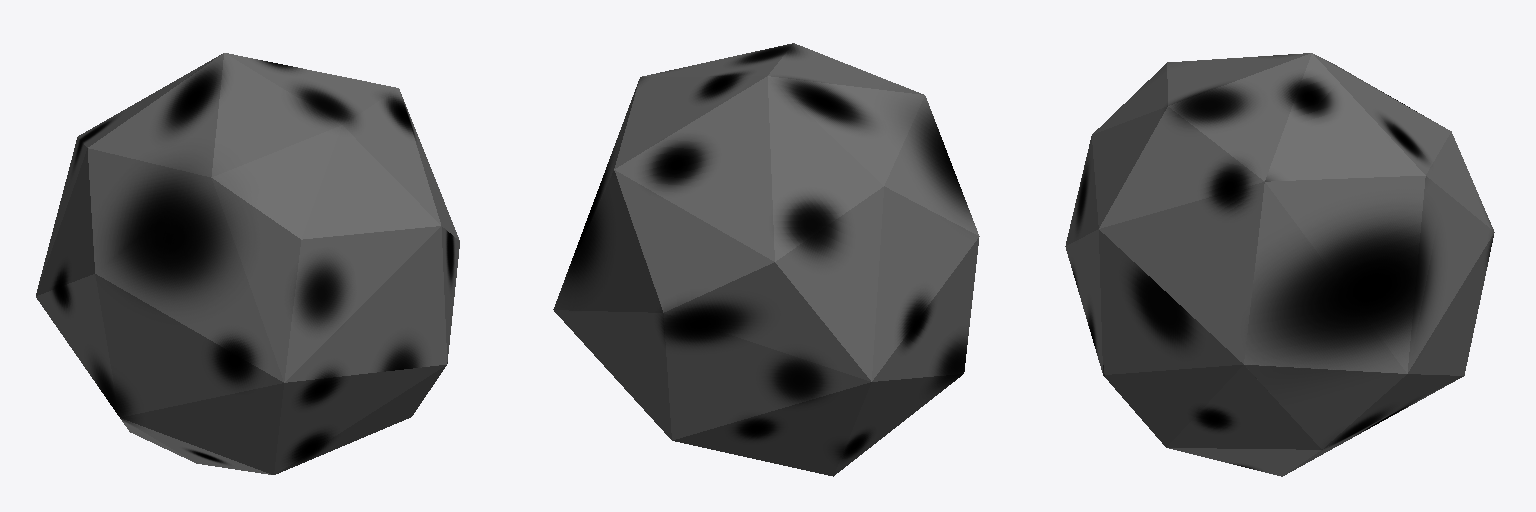
3 views of the same model, side by side, from view 1: azimuth 30°, elevation 25°; view 2: azimuth 150°, elevation 25°; view 3: azimuth 270°, elevation 25° (orthographic).
Parts seen in each view (by area): view 1: 球; view 2: 球; view 3: 球.
Part boxes in pixels (x1,y1,x2,y2): 球: (36,53,459,474); 球: (553,43,979,476); 球: (1065,53,1494,476).
Bounding box in the file's own units: 2.02 × 2.03 × 2.02.
1 materials, 1 textured.